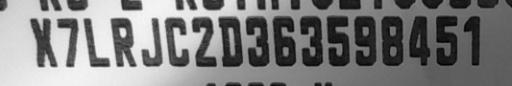letter: (20, 16, 62, 68), (81, 16, 113, 70), (190, 13, 218, 67), (350, 15, 378, 67), (242, 15, 270, 67), (164, 13, 190, 67), (433, 14, 461, 64), (299, 15, 325, 67), (406, 14, 432, 64), (380, 13, 404, 67), (270, 14, 294, 68), (112, 15, 136, 69), (139, 14, 163, 66), (326, 14, 350, 66), (218, 15, 242, 67), (60, 16, 82, 68), (462, 15, 484, 65)
